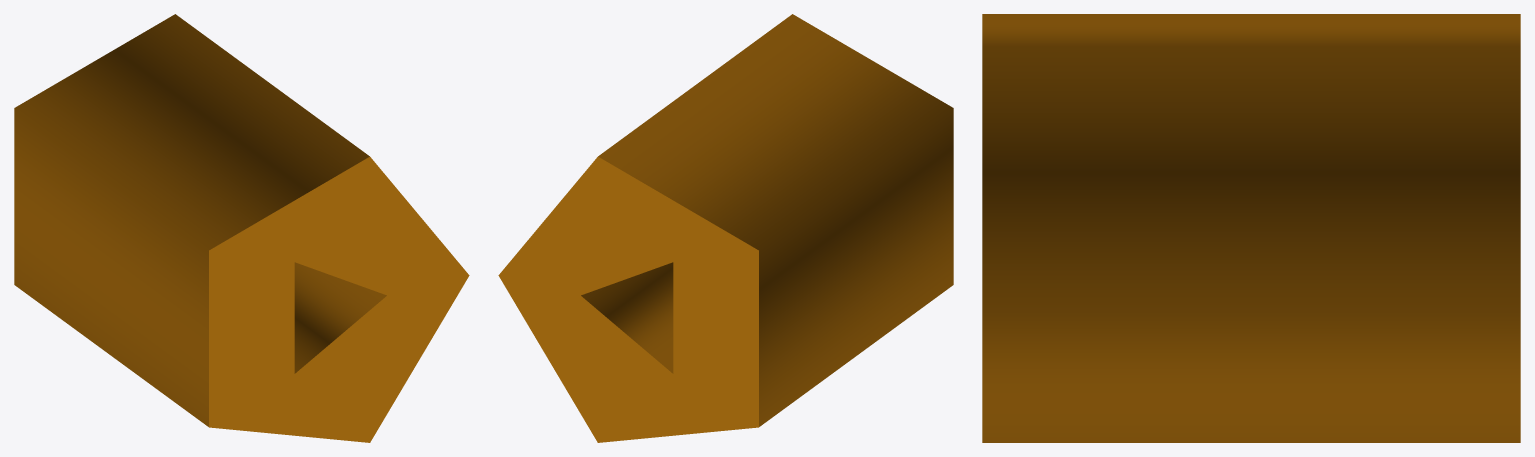
Rendered from Copie de Piece laiton D 1.5_Laiton _X2_00d8_X0_1.5^Copie de ASS pilier 2_Horloge Comtoise Verge - Sonnerie_instance_2.obj.
3 renders of one model, left to right at view 1: azimuth 30°, elevation 25°; view 2: azimuth 150°, elevation 25°; view 3: azimuth 270°, elevation 25°, orthographic. The views are drawn at different scales.
Parts seen in each view (by area): view 1: Face_1, Face_3, Face_4; view 2: Face_1, Face_2, Face_4; view 3: Face_1.
Part boxes in pixels (x1,y1,x2,y2): Face_1: (14, 14, 369, 426); Face_3: (209, 157, 469, 442); Face_4: (294, 262, 386, 373); Face_1: (598, 14, 953, 426); Face_2: (498, 157, 758, 442); Face_4: (581, 262, 673, 373); Face_1: (982, 14, 1520, 442).
Size of the model in its own units: 0.00317 by 0.00333 by 0.0041.
